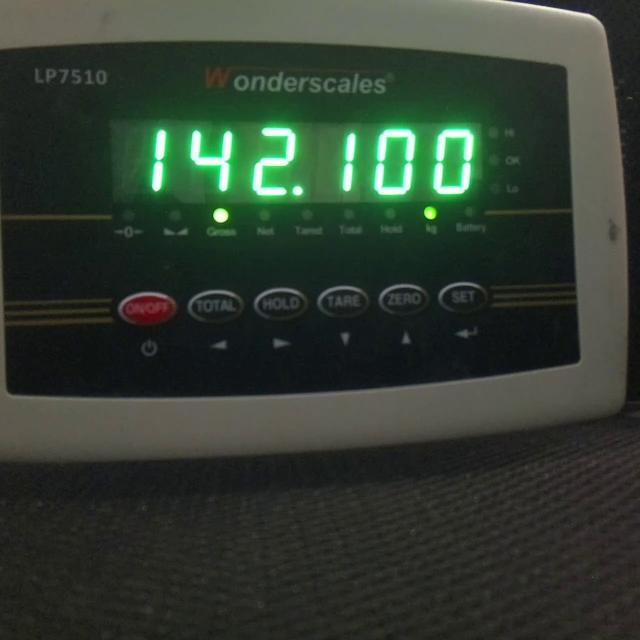.: (290, 184, 303, 197)
0: (374, 128, 416, 195), (433, 128, 474, 194)
1: (150, 128, 167, 192), (341, 132, 357, 192)
2: (252, 127, 298, 196)
4: (190, 128, 232, 193)
